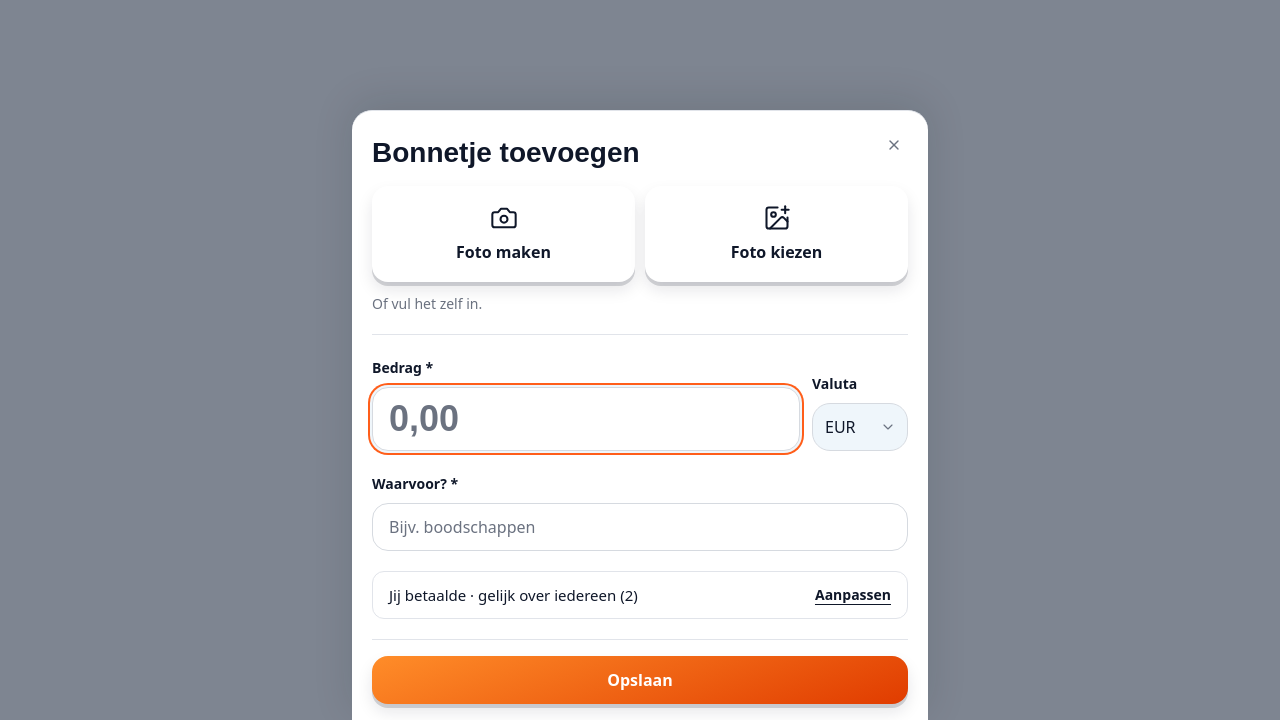
Test: explicit receipt saving › hides payer and split behind one summary line until Aanpassen
Expected: the field labelled "Wie betaalde?" is not shown
Expected: the text "Jij betaalde · gelijk over iedereen (2)" is shown, x1=389 y1=584 x2=638 y2=606
Step 1. Click the text "Aanpassen" → (853, 595), box x1=815 y1=585 x2=891 y2=605
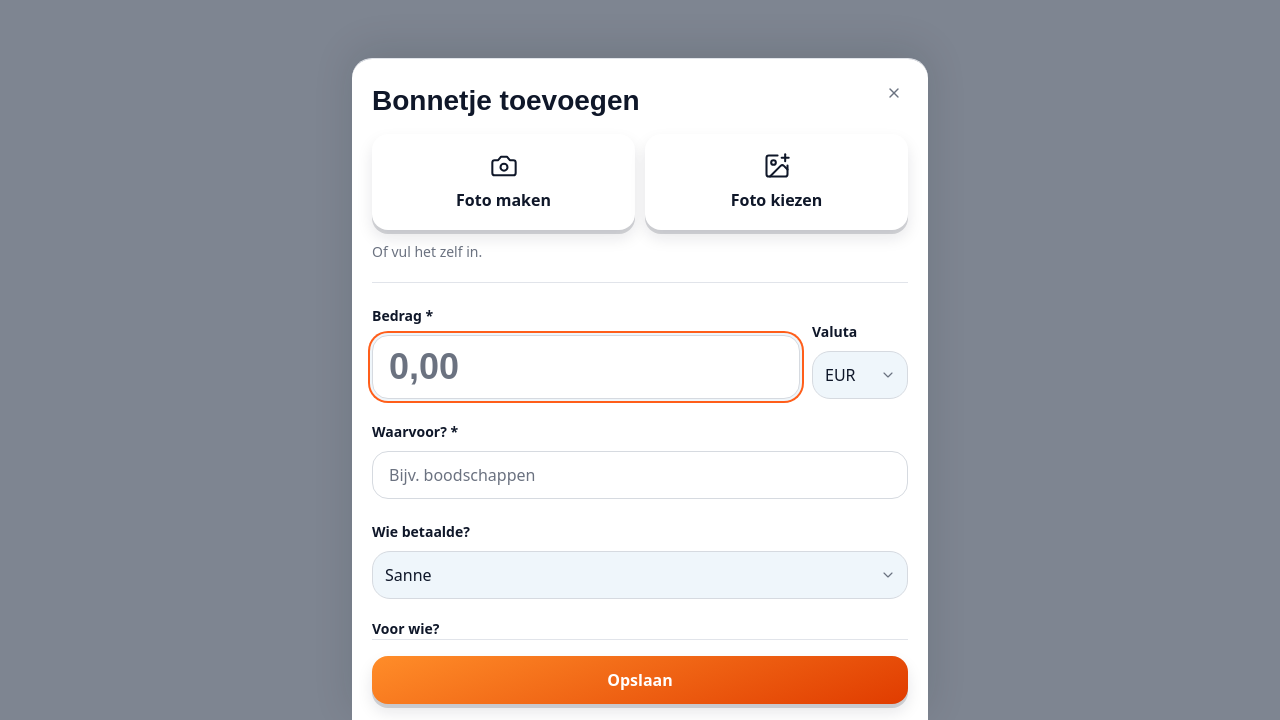
Now the dropdown labelled "Wie betaalde?" shows "Sanne", box x1=372 y1=551 x2=908 y2=599
